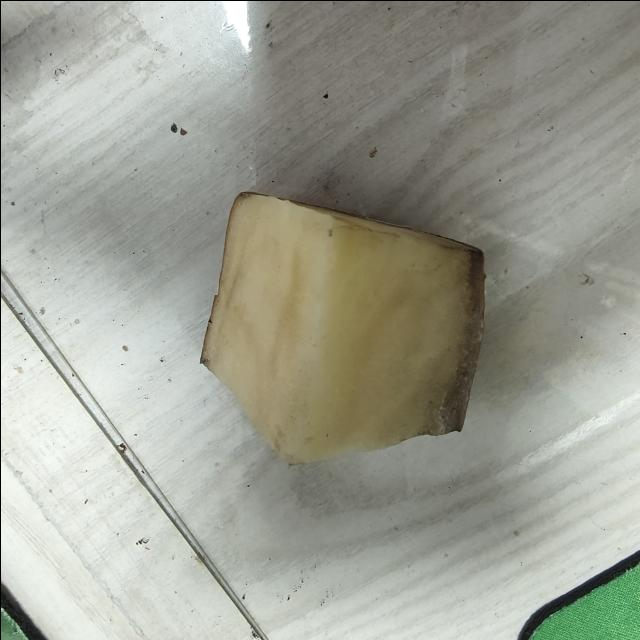-Kitchen waste - potato-: (195, 183, 488, 458)
